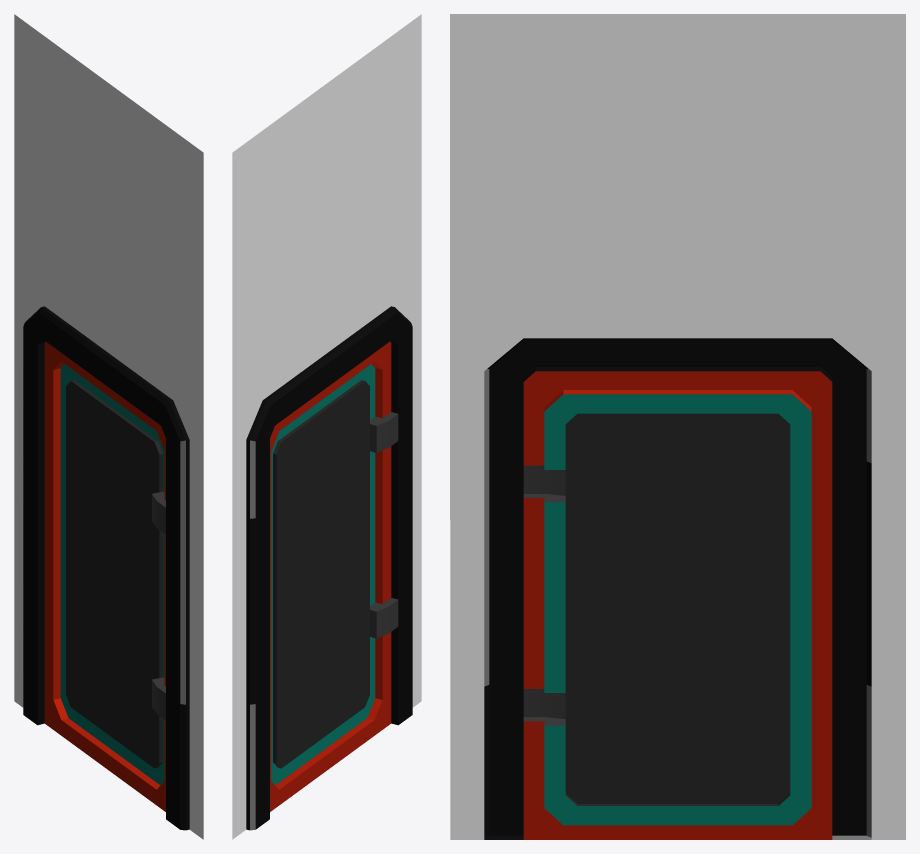
File: S_assete_basement_wall_midel_8.fbx
3 views of the same model, side by side, from view 1: azimuth 30°, elevation 25°; view 2: azimuth 150°, elevation 25°; view 3: azimuth 270°, elevation 25° (orthographic). The views are drawn at different scales.
Parts seen in each view (by area): view 1: Plane148; view 2: Plane148; view 3: Plane148.
Boxes of the visible parts, <box> form: Plane148: <box>14,14,203,839</box>; Plane148: <box>232,14,421,839</box>; Plane148: <box>450,14,905,839</box>.
Bounding box in the file's own units: 8.84 × 400 × 200.
